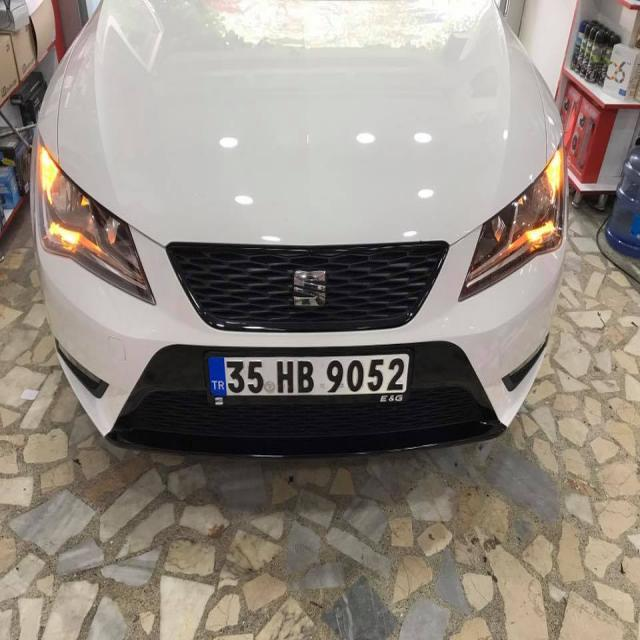plate: (202, 350, 416, 399)
